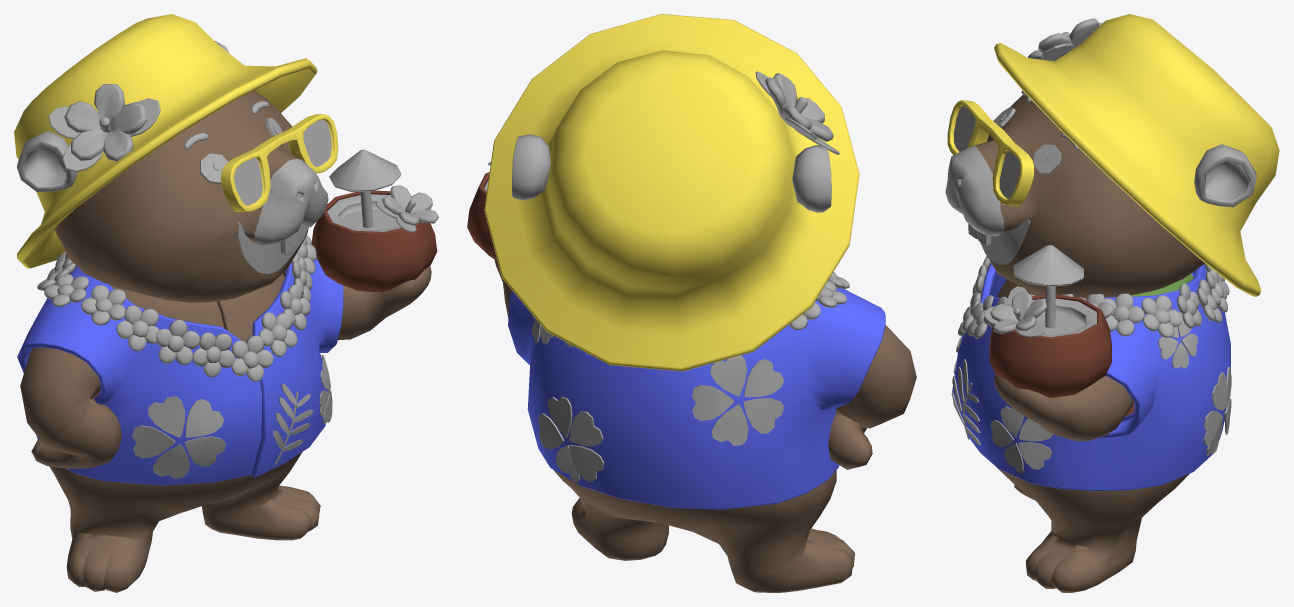
File: ChillingCapybara.fbx
3 views of the same model, side by side, from view 1: azimuth 30°, elevation 25°; view 2: azimuth 150°, elevation 25°; view 3: azimuth 270°, elevation 25° (orthographic). The views are drawn at different scales.
Parts seen in each view (by area): view 1: S_ChillingCapybara, S_ChillingCapybara_, D_ChillingCapybara_15, D_ChillingCapybara_86, M_ChillingCapybara, D_ChillingCapybara_14, D_ChillingCapybara_54, D_ChillingCapybara_1, D_ChillingCapybara_53, D_ChillingCapybara_3, D_ChillingCapybara_35, D_ChillingCapybara_36 (+5 smaller); view 2: S_ChillingCapybara, D_ChillingCapybara_14, D_ChillingCapybara_13, D_ChillingCapybara_15, D_ChillingCapybara_27, D_ChillingCapybara_22, D_ChillingCapybara_45, D_ChillingCapybara_42, D_ChillingCapybara_33, D_ChillingCapybara_40, D_ChillingCapybara_32, D_ChillingCapybara_16 (+1 smaller); view 3: S_ChillingCapybara, S_ChillingCapybara_, D_ChillingCapybara_86, D_ChillingCapybara_13, D_ChillingCapybara_54, D_ChillingCapybara_53, D_ChillingCapybara_1, D_ChillingCapybara_3, D_ChillingCapybara_15, M_ChillingCapybara, D_ChillingCapybara_31, D_ChillingCapybara_64 (+4 smaller).
Boxes of the visible parts, bbox=[...] form: S_ChillingCapybara: bbox=[14, 14, 437, 592]; S_ChillingCapybara_: bbox=[54, 90, 308, 302]; D_ChillingCapybara_15: bbox=[64, 84, 147, 161]; D_ChillingCapybara_86: bbox=[254, 159, 328, 245]; M_ChillingCapybara: bbox=[95, 273, 284, 396]; D_ChillingCapybara_14: bbox=[17, 130, 76, 191]; D_ChillingCapybara_54: bbox=[329, 149, 401, 192]; D_ChillingCapybara_1: bbox=[234, 119, 331, 205]; D_ChillingCapybara_53: bbox=[382, 185, 438, 225]; D_ChillingCapybara_3: bbox=[237, 222, 308, 274]; D_ChillingCapybara_35: bbox=[148, 396, 185, 437]; D_ChillingCapybara_36: bbox=[185, 399, 223, 437]; S_ChillingCapybara: bbox=[467, 14, 916, 592]; D_ChillingCapybara_14: bbox=[792, 145, 831, 212]; D_ChillingCapybara_13: bbox=[512, 134, 550, 200]; D_ChillingCapybara_15: bbox=[765, 73, 833, 141]; D_ChillingCapybara_27: bbox=[692, 385, 734, 420]; D_ChillingCapybara_22: bbox=[744, 359, 783, 397]; D_ChillingCapybara_45: bbox=[711, 404, 748, 445]; D_ChillingCapybara_42: bbox=[710, 355, 747, 396]; D_ChillingCapybara_33: bbox=[743, 398, 784, 433]; D_ChillingCapybara_40: bbox=[569, 411, 603, 446]; D_ChillingCapybara_32: bbox=[569, 444, 604, 482]; D_ChillingCapybara_16: bbox=[548, 396, 572, 437]; S_ChillingCapybara: bbox=[947, 14, 1279, 592]; S_ChillingCapybara_: bbox=[974, 94, 1204, 298]; D_ChillingCapybara_86: bbox=[945, 145, 1004, 236]; D_ChillingCapybara_13: bbox=[1194, 144, 1256, 207]; D_ChillingCapybara_54: bbox=[1013, 245, 1083, 286]; D_ChillingCapybara_53: bbox=[990, 292, 1046, 334]; D_ChillingCapybara_1: bbox=[954, 106, 1019, 198]; D_ChillingCapybara_3: bbox=[980, 220, 1030, 264]; D_ChillingCapybara_15: bbox=[1028, 18, 1102, 61]; M_ChillingCapybara: bbox=[996, 272, 1194, 416]; D_ChillingCapybara_31: bbox=[1018, 442, 1051, 469]; D_ChillingCapybara_64: bbox=[1033, 144, 1061, 173].
Size of the model in its own units: 523 by 616 by 367.
